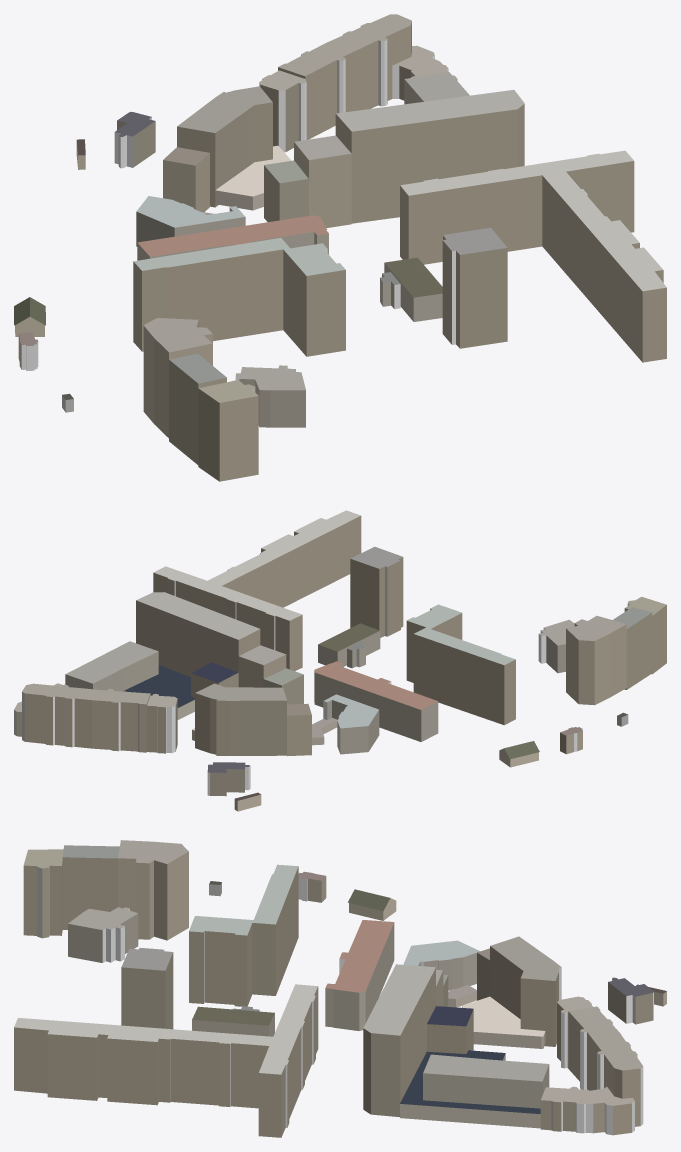
3 views of the same model, one above another, from view 1: azimuth 30°, elevation 25°; view 2: azimuth 150°, elevation 25°; view 3: azimuth 270°, elevation 25° (orthographic). The views are drawn at different scales.
Parts seen in each view (by area): view 1: tuile; view 2: tuile; view 3: tuile.
Part boxes in pixels (<box>): tuile: <box>14,14,666,481</box>; tuile: <box>14,510,666,811</box>; tuile: <box>14,840,666,1137</box>.
Bounding box in the file's own units: 244 × 44.69 × 259.
